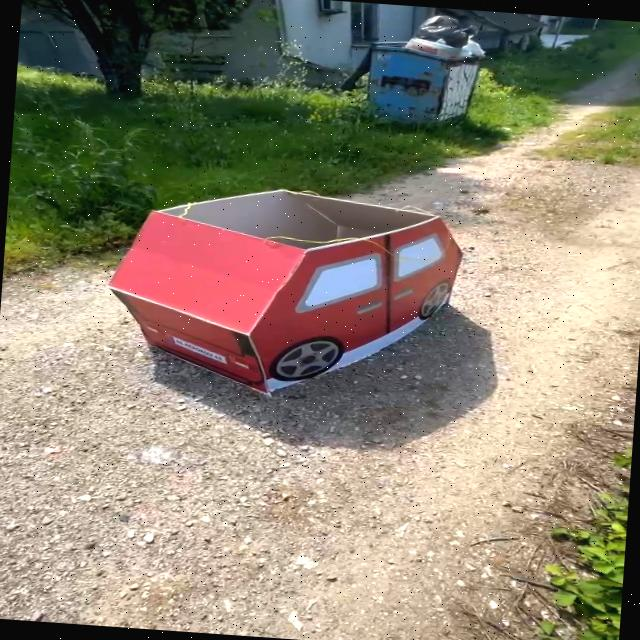red_car: (58, 148, 503, 421)
